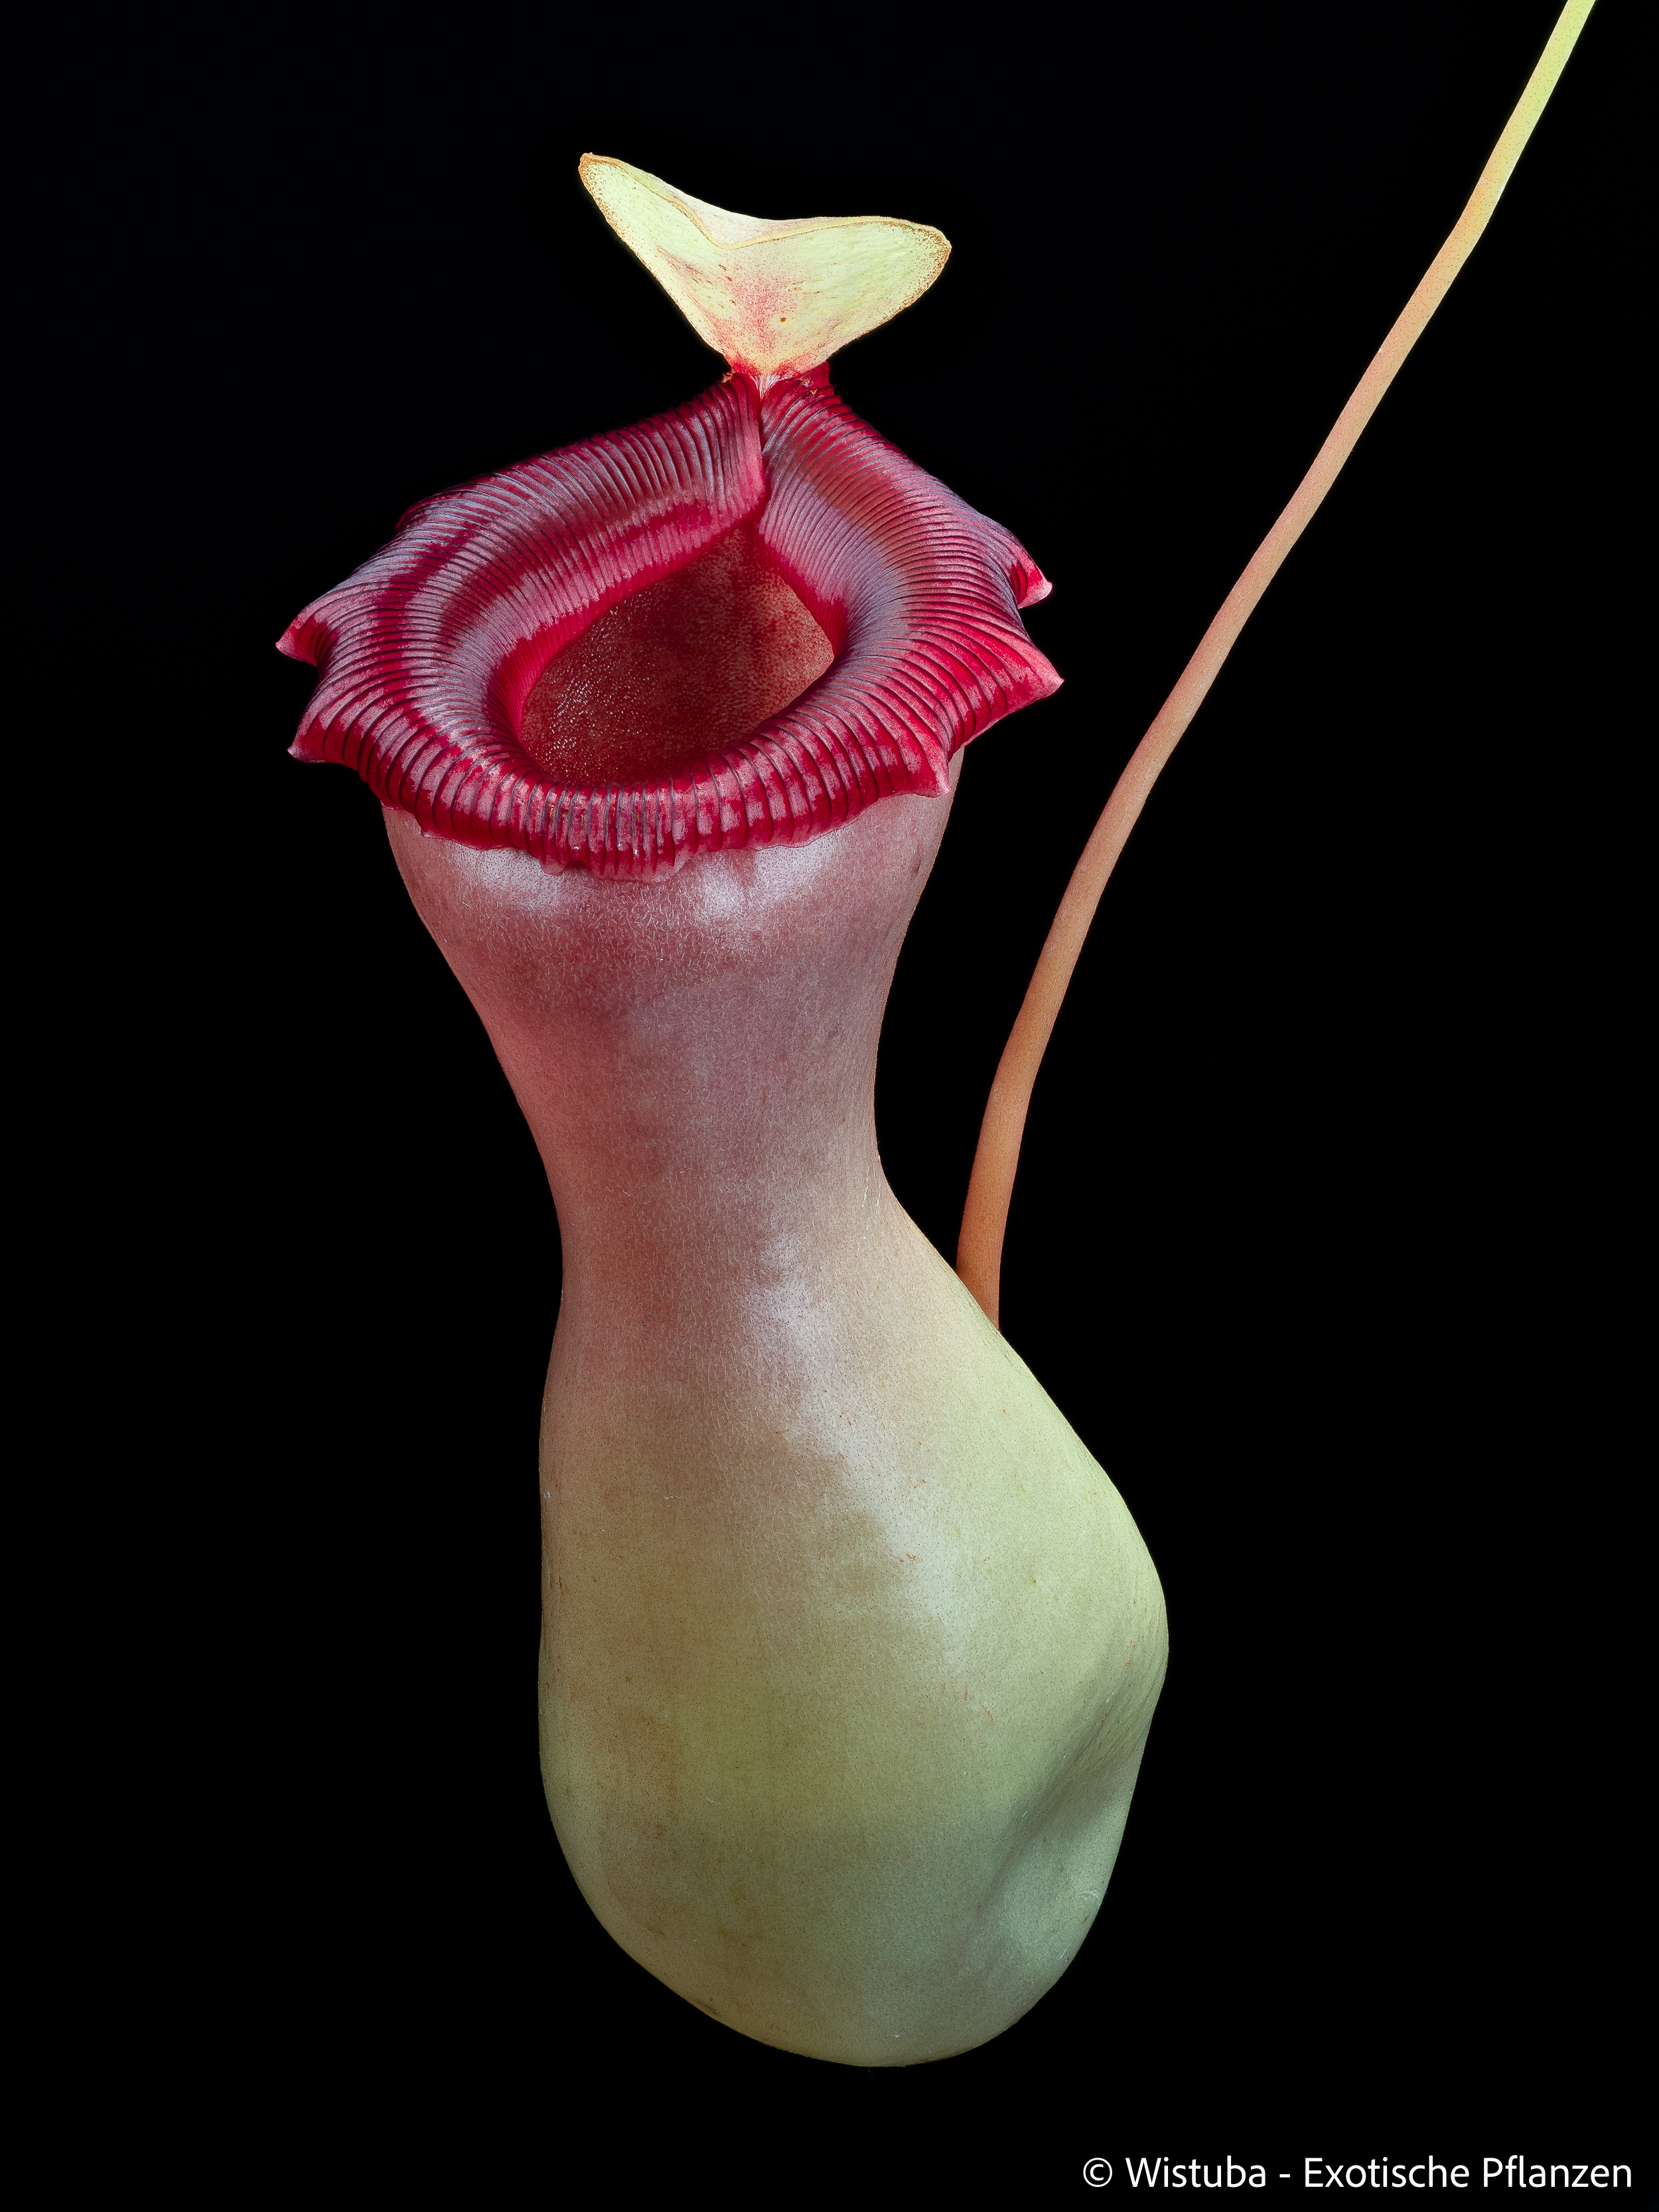ventricosa: (211, 38, 1269, 2076)
